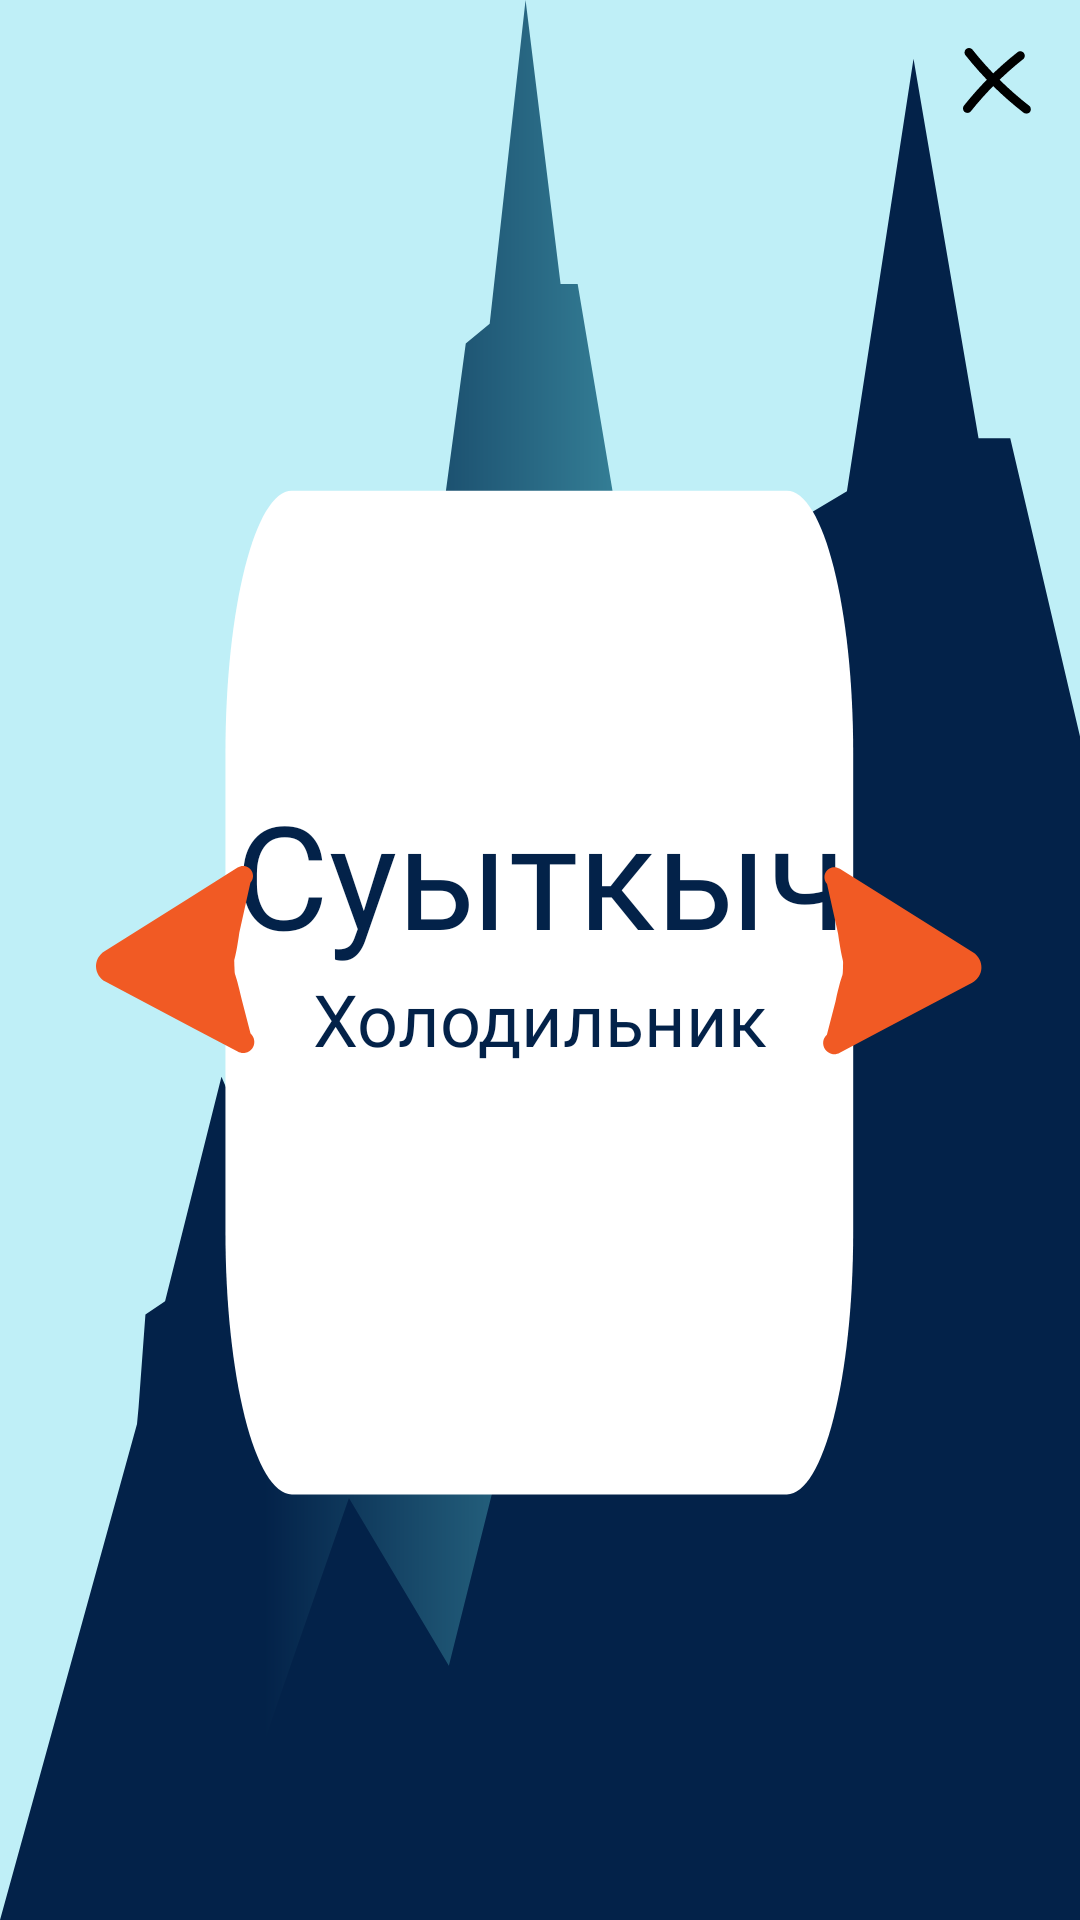

Point at icon controls on the screen. Image size 1080×1920, points as point (x, y).
cross: point (997, 81)
toleft: point (175, 960)
toright: point (902, 960)
